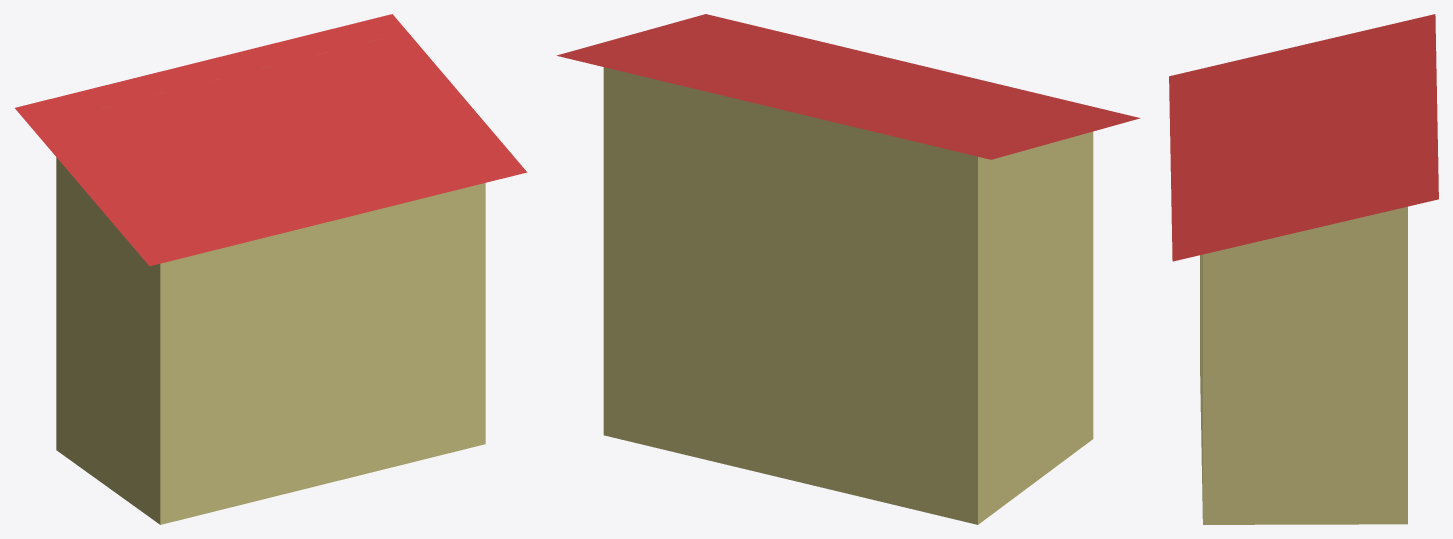
The picture shows the model from 3 angles, left to right: view 1: azimuth 30°, elevation 25°; view 2: azimuth 150°, elevation 25°; view 3: azimuth 270°, elevation 25°; orthographic projection. The views are drawn at different scales.
Bounding box in the file's own units: 7.19 × 4.41 × 6.08.
